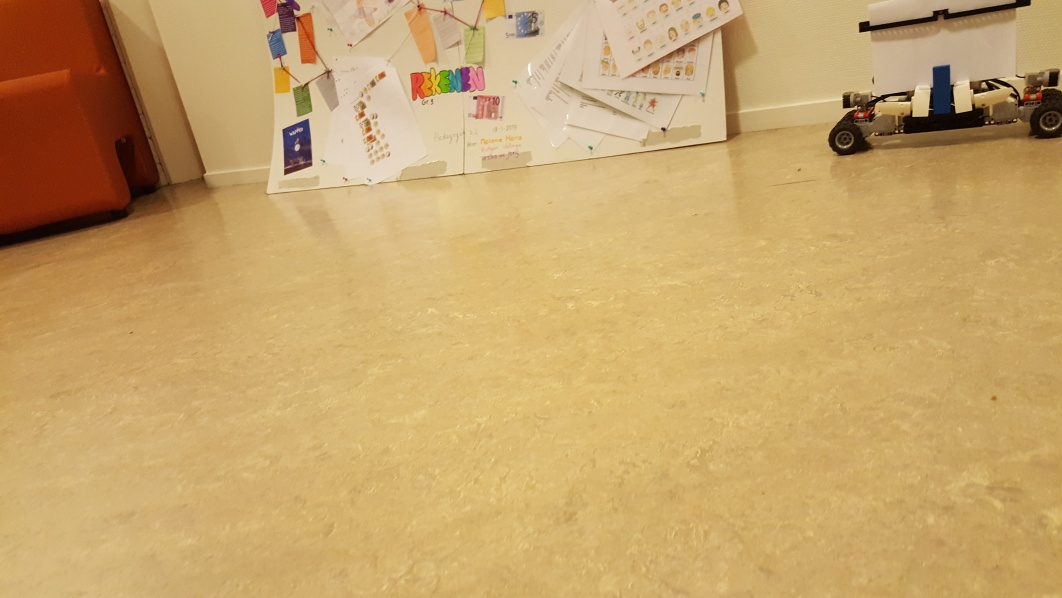beam: (930, 64, 952, 116)
